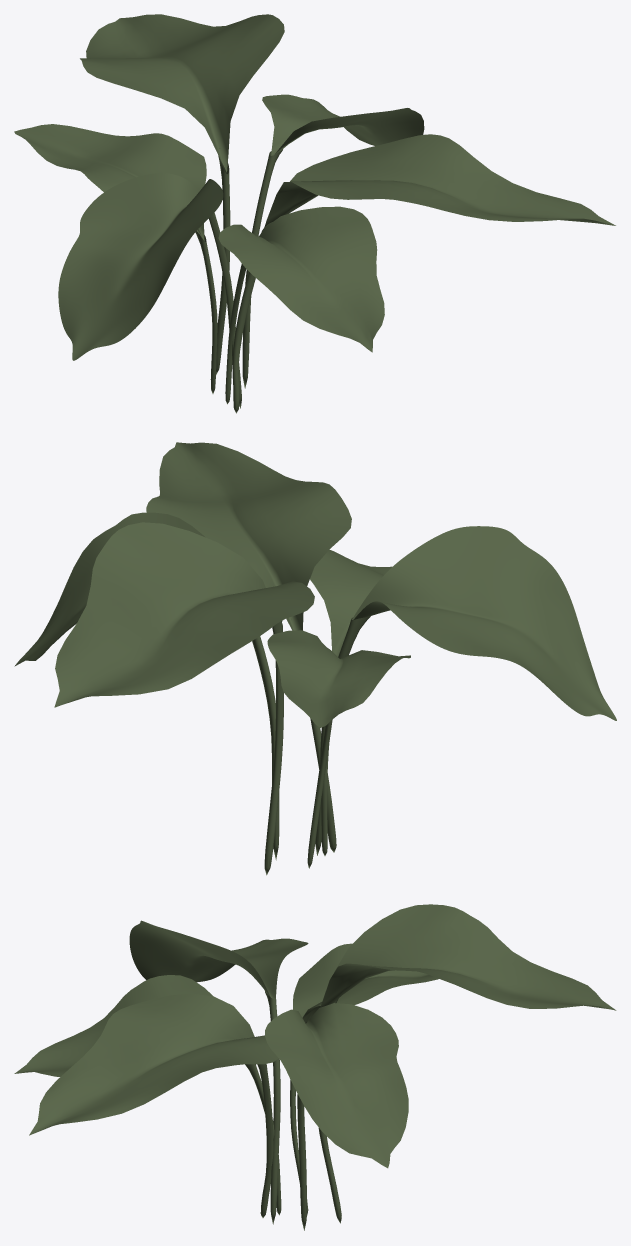
The model's file is Grass3.fbx.
3 renders of one model, top to bottom at view 1: azimuth 30°, elevation 25°; view 2: azimuth 150°, elevation 25°; view 3: azimuth 270°, elevation 25°, orthographic. The views are drawn at different scales.
Parts seen in each view (by area): view 1: Plane.021; view 2: Plane.021; view 3: Plane.021.
Boxes of the visible parts, bbox=[...] form: Plane.021: bbox=[14, 14, 615, 413]; Plane.021: bbox=[14, 442, 616, 875]; Plane.021: bbox=[14, 904, 616, 1230].
Size of the model in its own units: 151 by 97.04 by 174.
